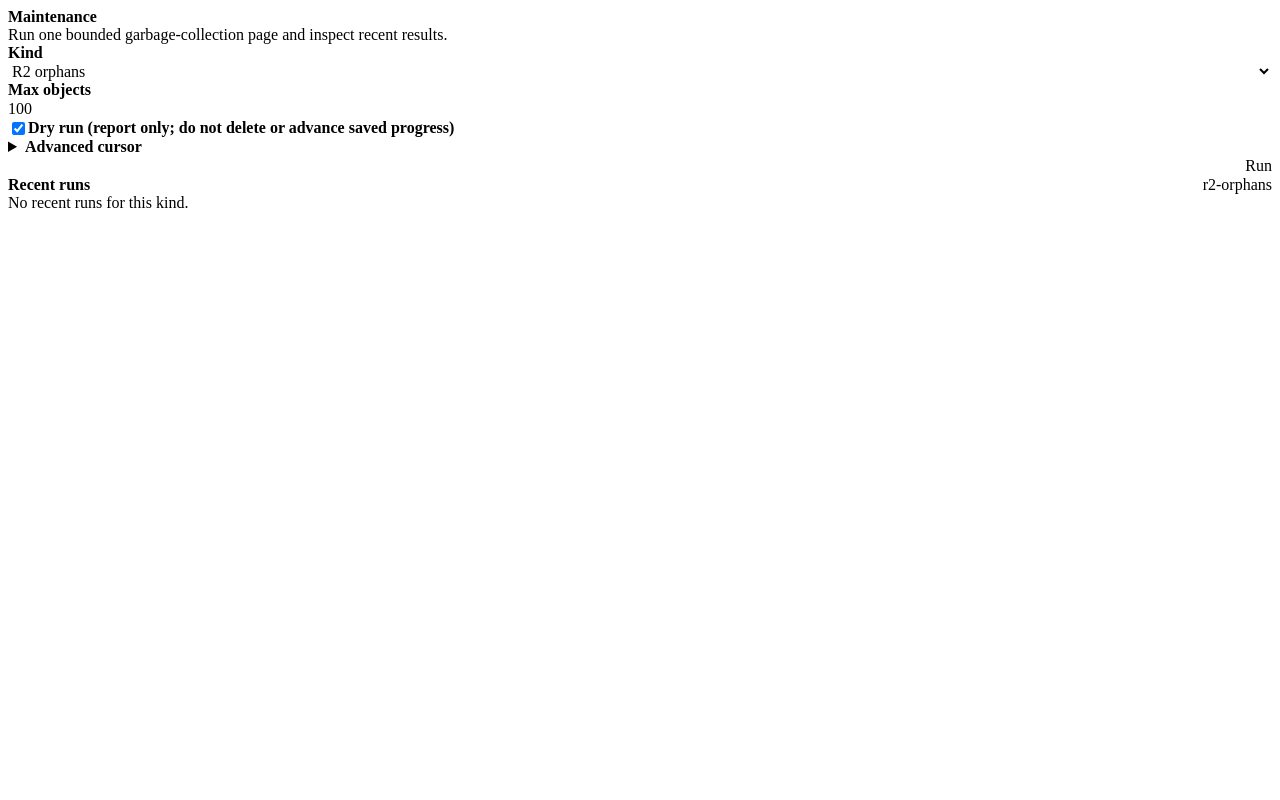
GcPanel › offers content collection and sends the selected kind
Select "Unreferenced content rows" in the dropdown labelled "Kind" at point(640, 72), box 8,62 -> 1272,81
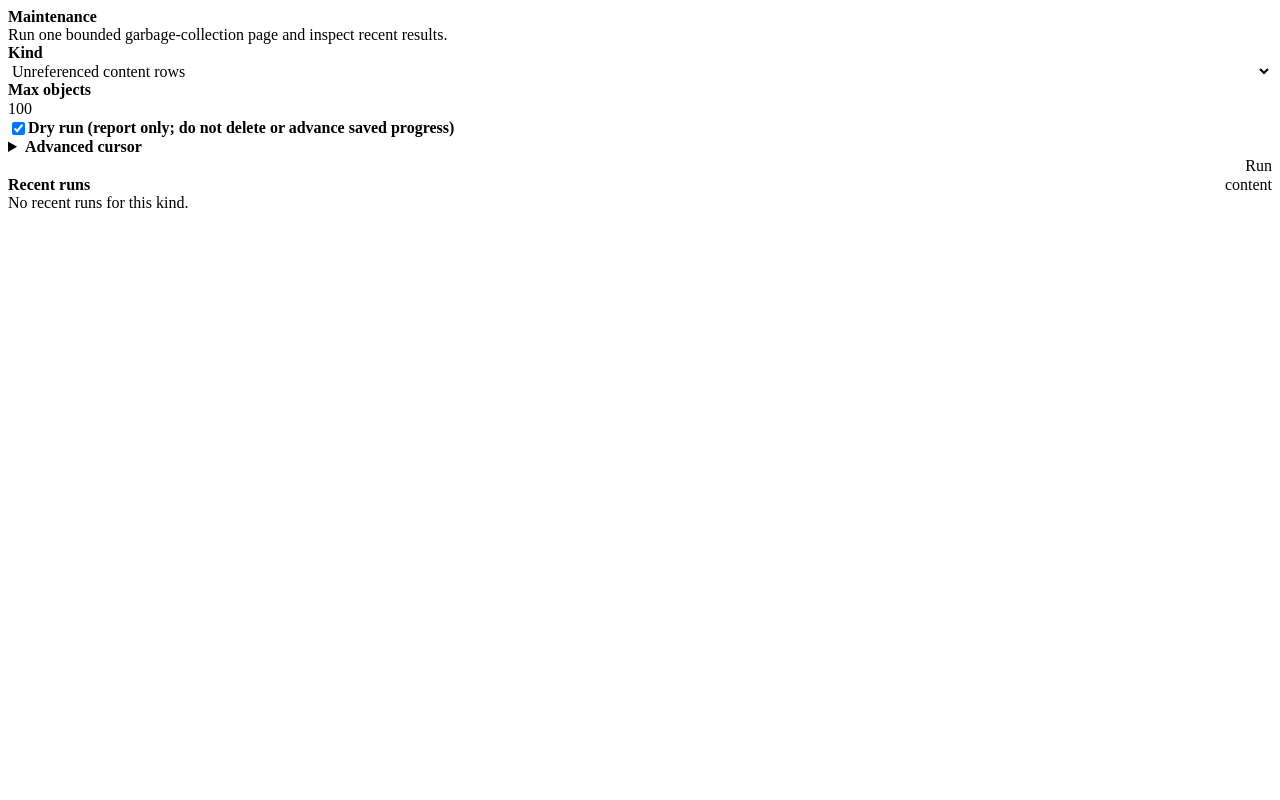
Click the button "Run" at point(1259, 166), box 1245,156 -> 1272,176
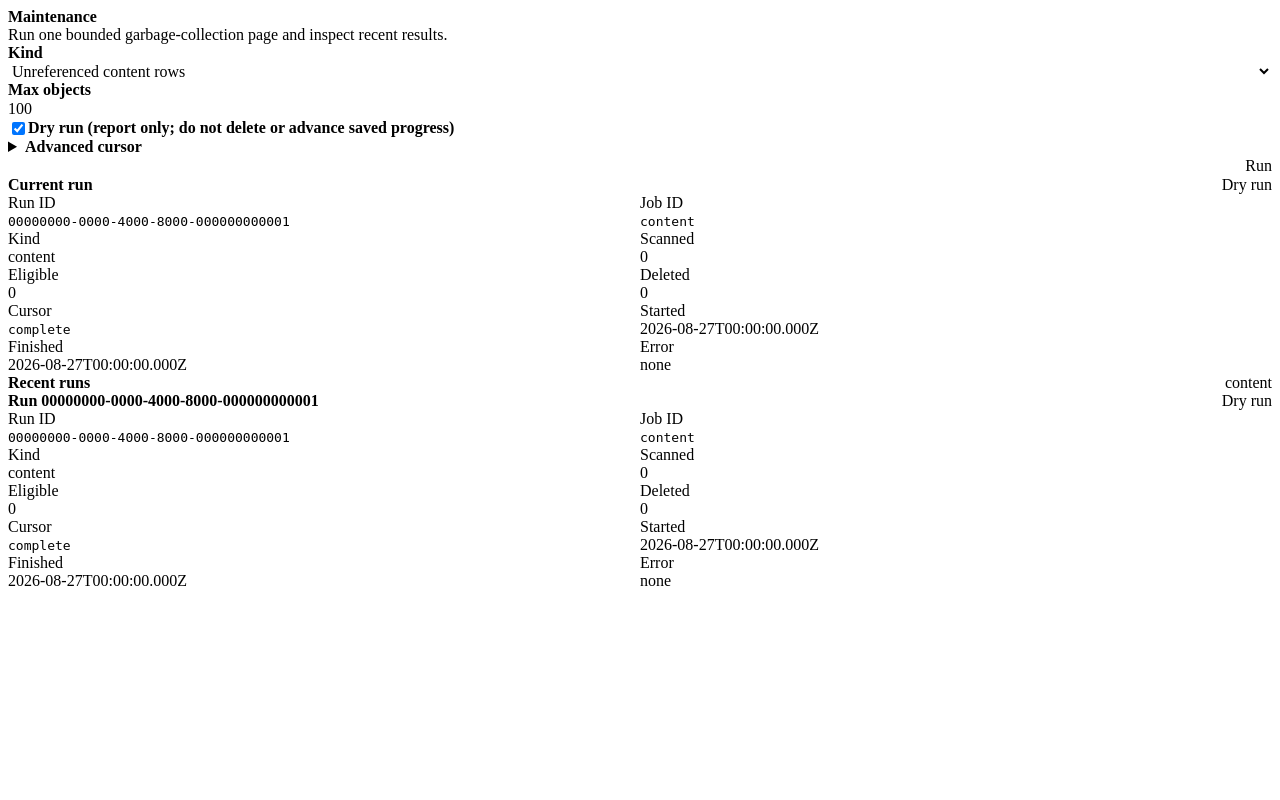
Check: the element "Current run" is shown, box 8,176 -> 1272,374
